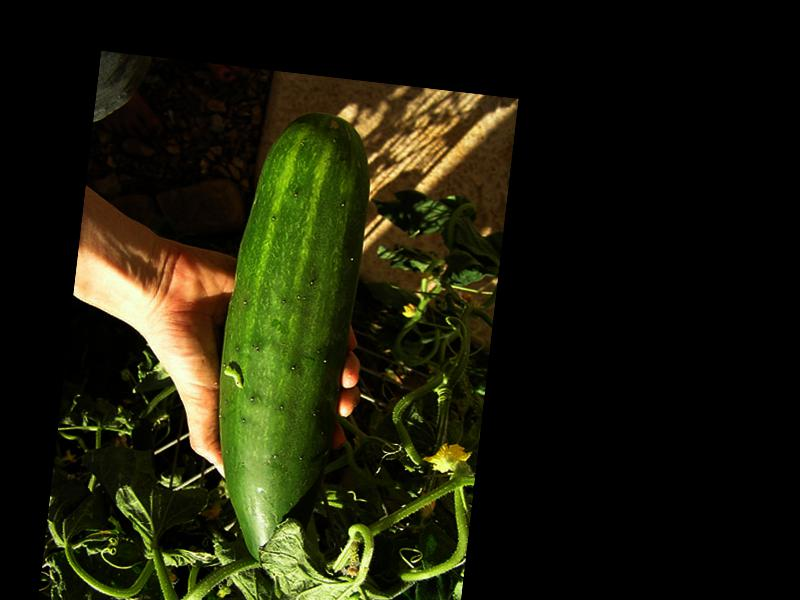Cucumber: (198, 104, 378, 574)
